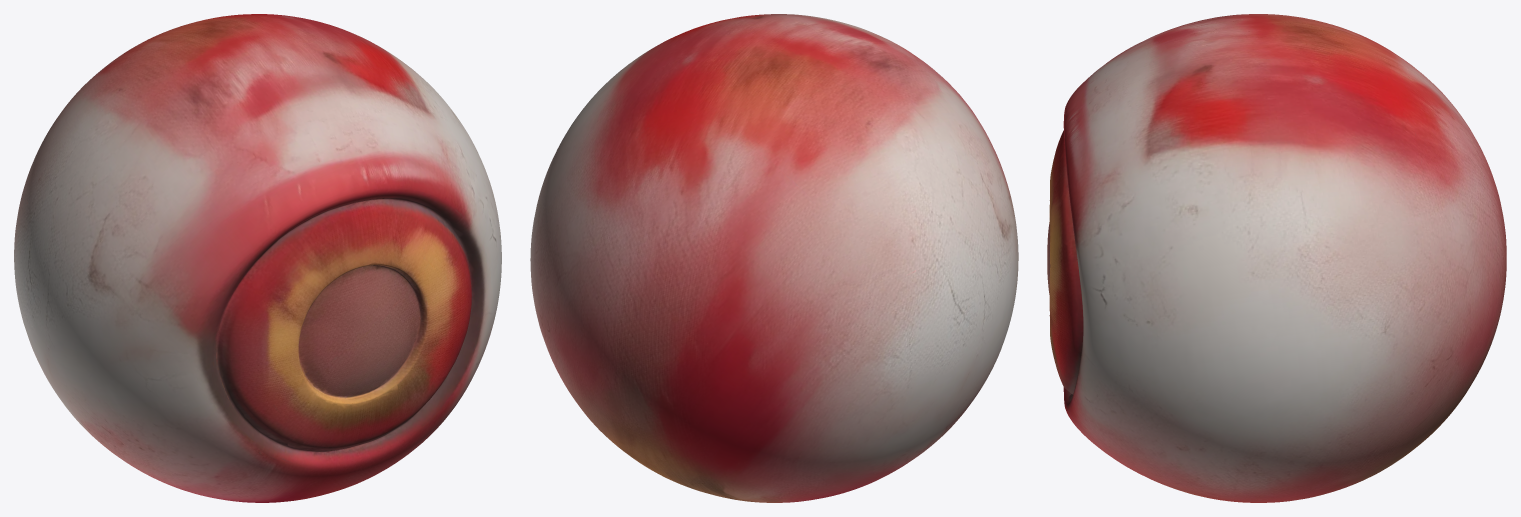
File: vet_v2_path_cataracts-eye.glb
3 views of the same model, side by side, from view 1: azimuth 30°, elevation 25°; view 2: azimuth 150°, elevation 25°; view 3: azimuth 270°, elevation 25° (orthographic).
Visible parts, largest first — view 1: model; view 2: model; view 3: model.
Part boxes in pixels (box(x1,y1,x2,y2)): model: box(14, 14, 501, 502); model: box(530, 14, 1018, 502); model: box(1047, 14, 1506, 502).
Bounding box in the file's own units: 1.9 × 1.9 × 1.79.
1 material, 1 textured.
